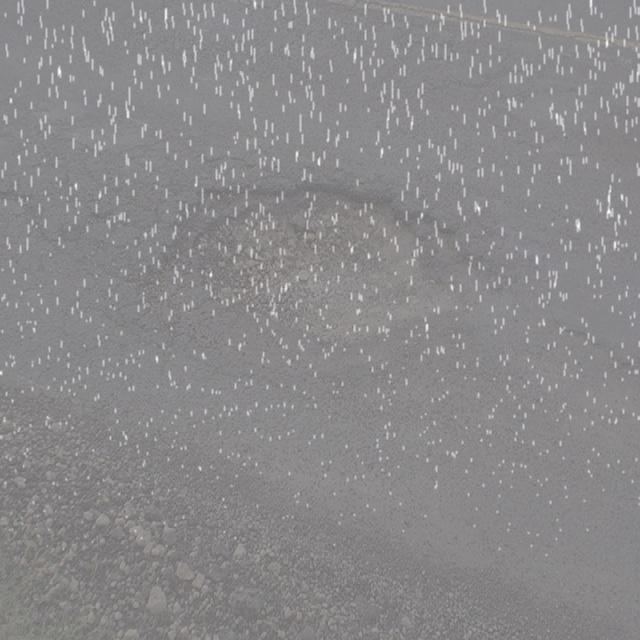Pothole: (159, 148, 469, 364)
